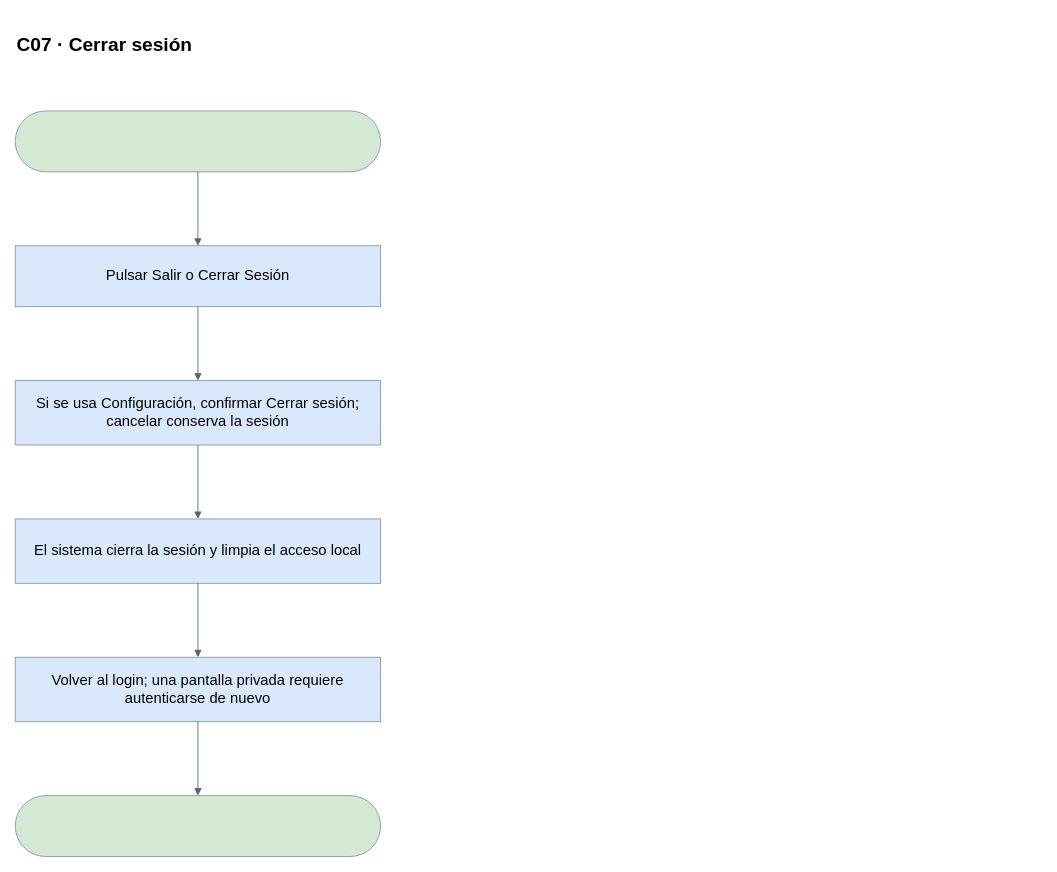
Image size: 1057x872. Some labels were removed from this diagram. Each missing label, with the centre of its shape:
Fin: [197,826]
Inicio: [197,141]
